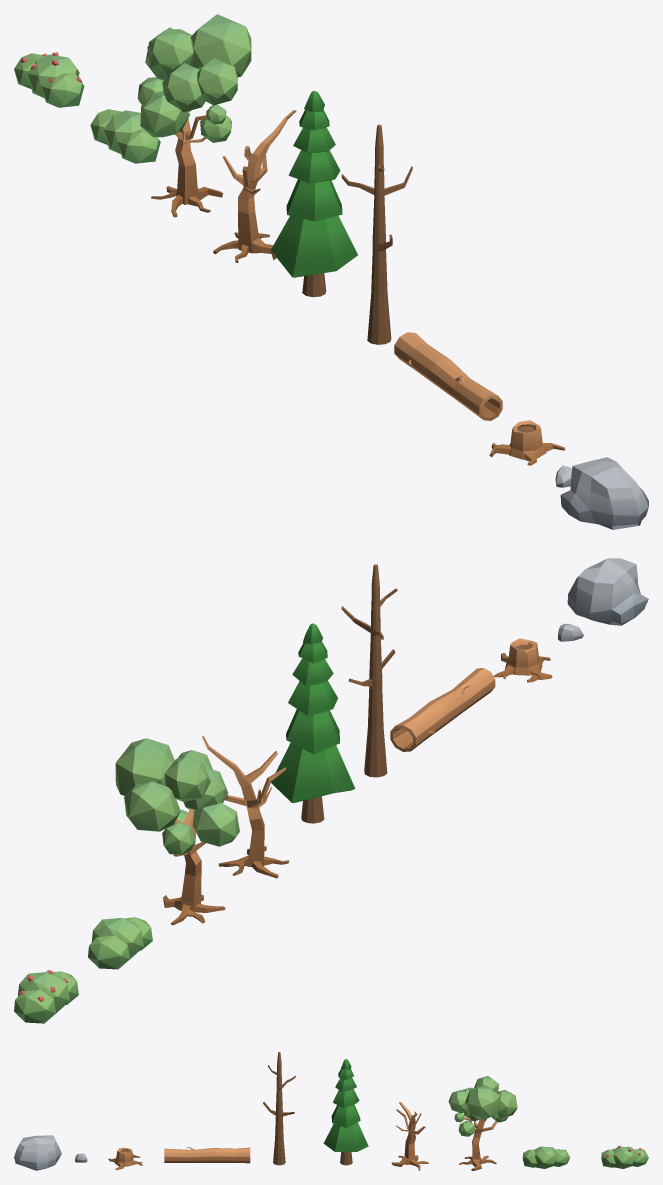
The model's file is low_poly_nature_asset_pack.glb.
The picture shows the model from 3 angles, top to bottom: view 1: azimuth 30°, elevation 25°; view 2: azimuth 150°, elevation 25°; view 3: azimuth 270°, elevation 25°; orthographic projection. The views are drawn at different scales.
Parts seen in each view (by area): view 1: Base Tree.003, Spruce, Rock Large, Naked Spruse, Fallen tree, Naked Tree, Bush Berry, Bush, Base Tree, Stump; view 2: Base Tree.003, Spruce, Rock Large, Naked Spruse, Fallen tree, Naked Tree, Bush Berry, Bush, Base Tree, Stump; view 3: Base Tree.003, Spruce, Rock Large, Fallen tree, Naked Spruse, Bush Berry, Bush, Naked Tree, Base Tree, Stump.
Boxes of the visible parts, x1,y1,x2,y2 form: Base Tree.003: (137, 14, 251, 142); Spruce: (271, 90, 357, 297); Rock Large: (560, 457, 648, 529); Naked Spruse: (341, 124, 412, 344); Fallen tree: (394, 332, 502, 420); Naked Tree: (213, 110, 296, 262); Bush Berry: (14, 52, 84, 107); Bush: (90, 109, 160, 163); Base Tree: (151, 110, 222, 217); Stump: (489, 420, 565, 465); Base Tree.003: (115, 738, 239, 854); Spruce: (271, 623, 355, 823); Rock Large: (567, 558, 648, 625); Naked Spruse: (341, 564, 397, 777); Fallen tree: (390, 668, 495, 751); Naked Tree: (202, 736, 289, 878); Bush Berry: (14, 970, 78, 1023); Bush: (88, 917, 152, 969); Base Tree: (163, 808, 225, 925); Stump: (493, 638, 552, 682); Base Tree.003: (448, 1076, 517, 1136); Spruce: (323, 1059, 368, 1165); Rock Large: (14, 1135, 61, 1170); Fallen tree: (164, 1147, 250, 1163); Naked Spruse: (263, 1052, 295, 1165); Bush Berry: (601, 1145, 648, 1168); Bush: (522, 1146, 570, 1168); Naked Tree: (391, 1102, 428, 1170); Base Tree: (459, 1111, 497, 1170); Stump: (108, 1147, 142, 1169).
Bounding box in the file's own units: 2.58 × 4.64 × 23.79.
Materials: 1 (1 with a texture image).
